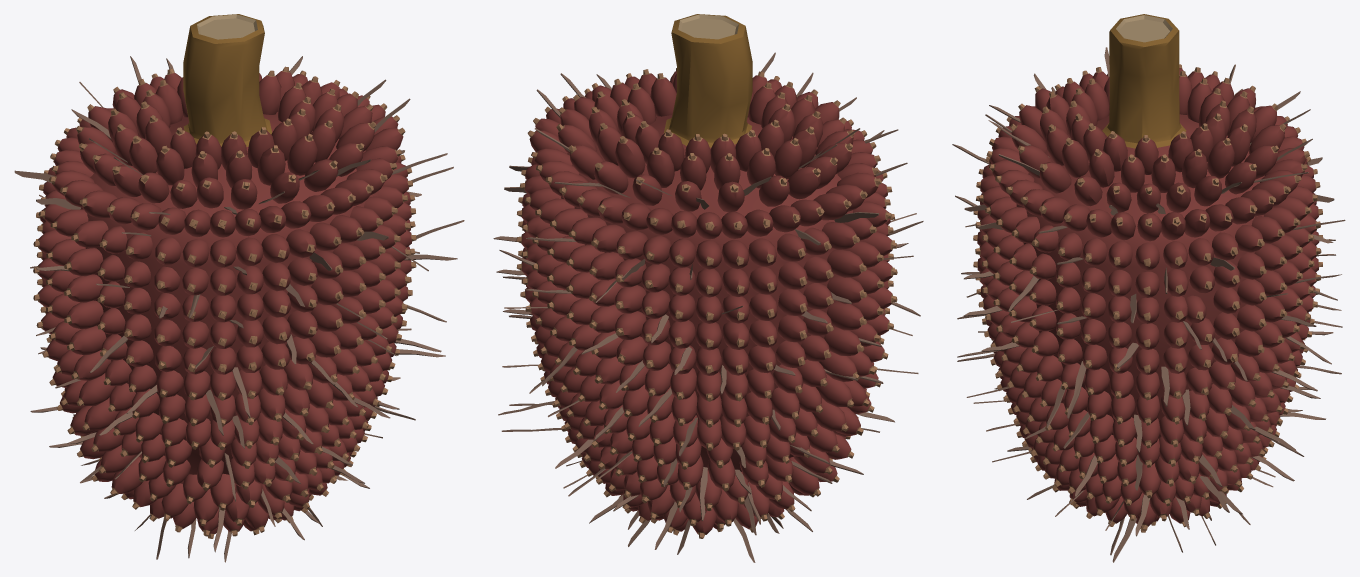
Rendered from Buah_Sawit.glb.
3 views of the same model, side by side, from view 1: azimuth 30°, elevation 25°; view 2: azimuth 150°, elevation 25°; view 3: azimuth 270°, elevation 25° (orthographic). The views are drawn at different scales.
Visible parts, largest first — view 1: Cube; view 2: Cube; view 3: Cube.
Boxes of the visible parts, x1,y1,x2,y2 form: Cube: (14,14,464,562); Cube: (493,14,923,562); Cube: (952,14,1345,562).
Size of the model in its own units: 0.5001 by 0.6157 by 0.4423.
